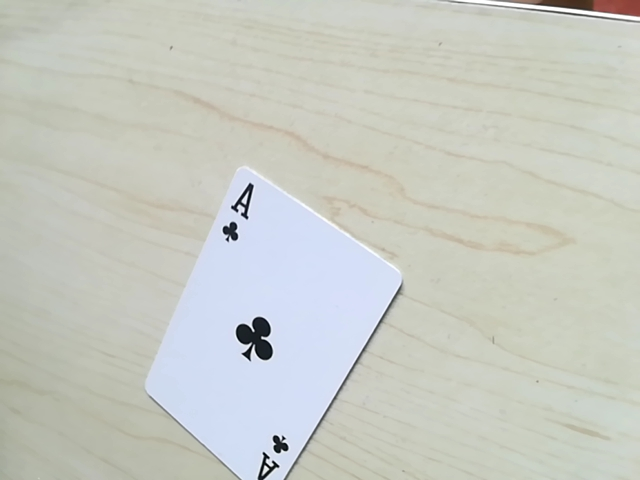mh a: (214, 167, 256, 256), (244, 430, 298, 480)
